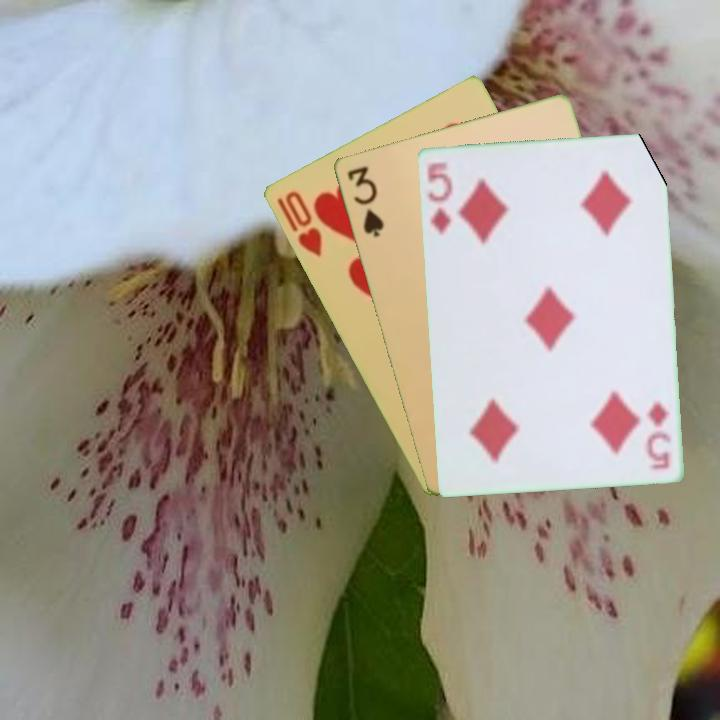10h: (281, 187, 325, 260)
3s: (343, 162, 387, 240)
5d: (423, 157, 455, 237), (642, 398, 674, 472)
